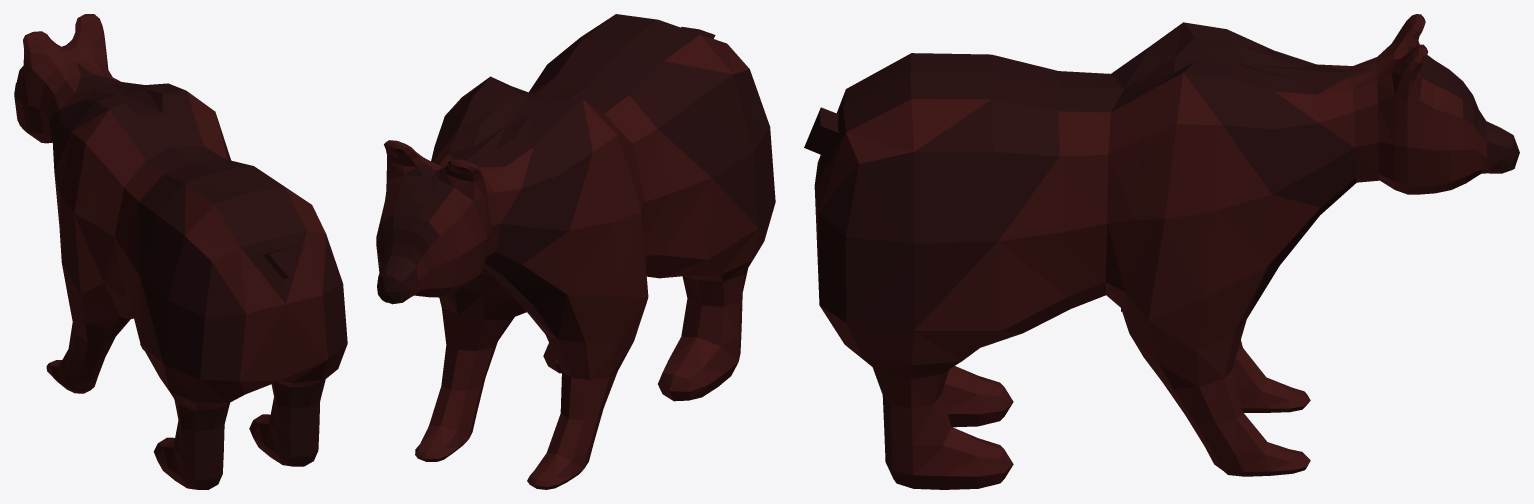
File: Bear.fbx
The picture shows the model from 3 angles, left to right: view 1: azimuth 30°, elevation 25°; view 2: azimuth 150°, elevation 25°; view 3: azimuth 270°, elevation 25°; orthographic projection. The views are drawn at different scales.
Parts seen in each view (by area): view 1: Cube; view 2: Cube; view 3: Cube.
Part boxes in pixels (x1,y1,x2,y2): Cube: [14, 14, 347, 489]; Cube: [376, 14, 775, 489]; Cube: [804, 14, 1519, 489].
Bounding box in the file's own units: 178 × 318 × 485.
